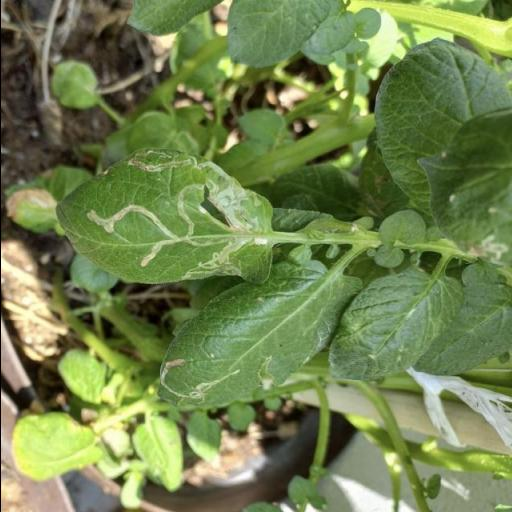disease_tomato: (150, 257, 362, 410), (56, 153, 276, 286)
